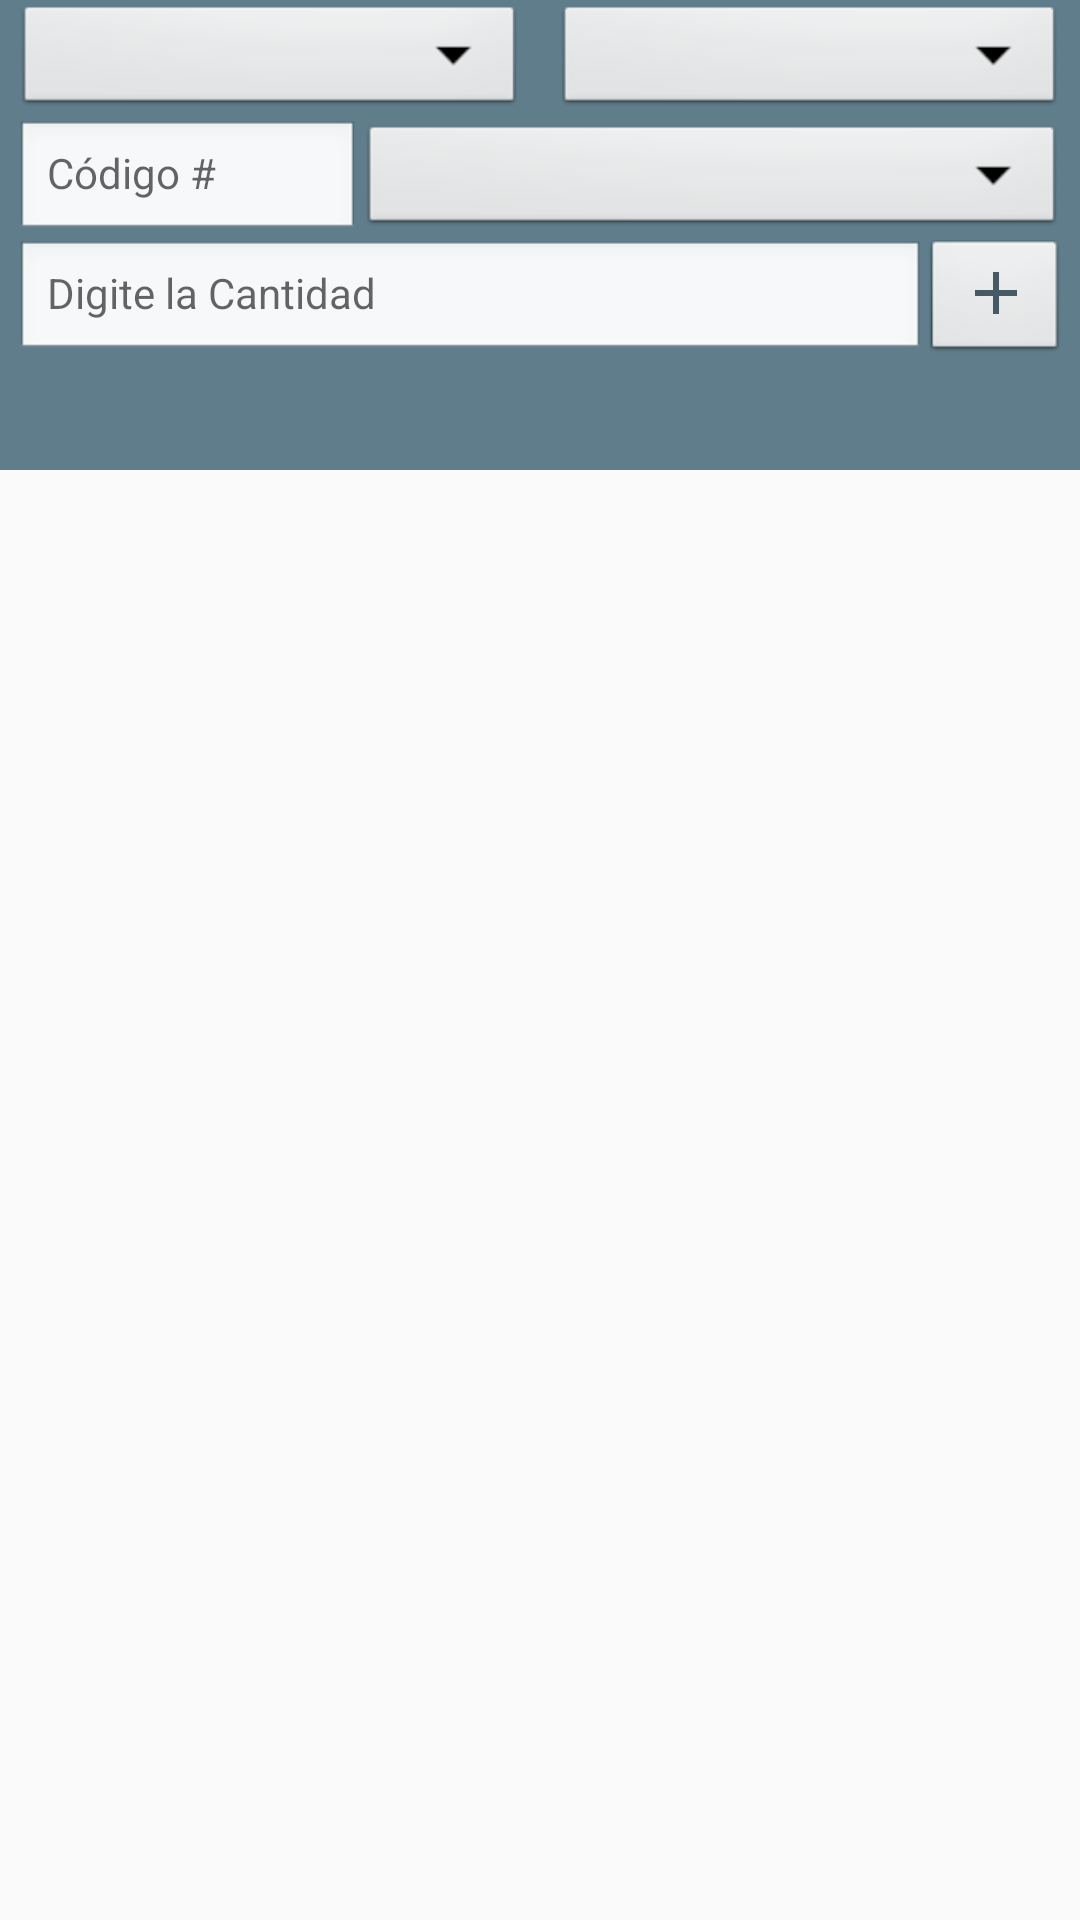

Screen size 1080 × 1920. Icon name, then its box in pixels as (x1, y1, x2, y2):
add: (931, 241, 1058, 349)
